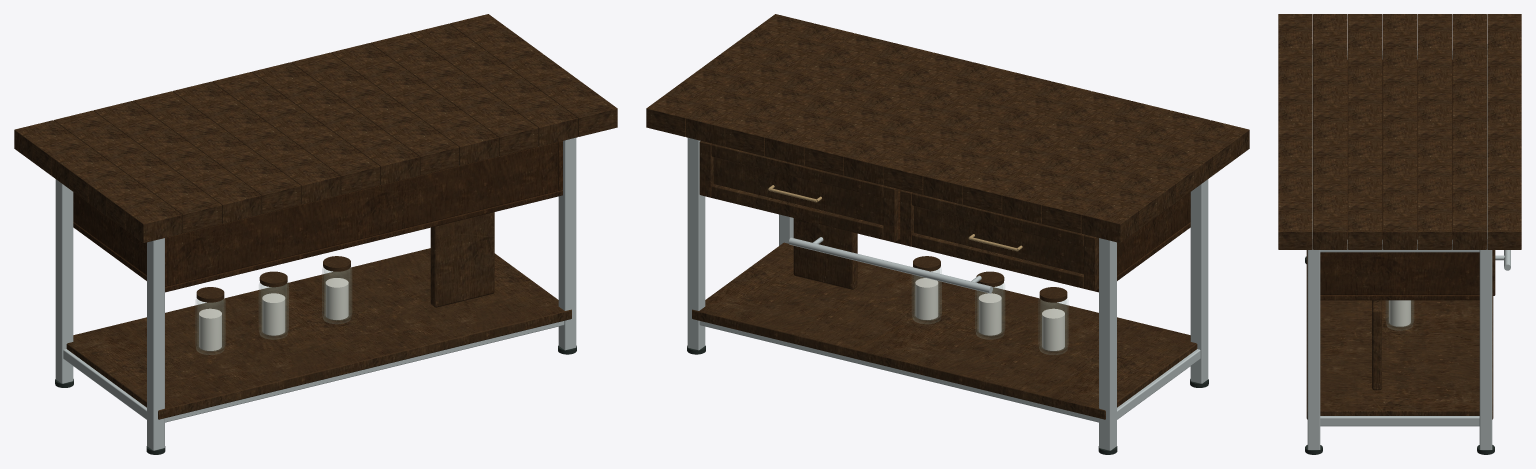
The model's file is cabinet-butcher-island.glb.
3 renders of one model, left to right at view 1: azimuth 30°, elevation 25°; view 2: azimuth 150°, elevation 25°; view 3: azimuth 270°, elevation 25°, orthographic. The views are drawn at different scales.
Visible parts, largest first — view 1: oak_surfaces, walnut_surfaces, steel_surfaces, glass_surfaces, cream_surfaces; view 2: oak_surfaces, steel_surfaces, glass_surfaces, walnut_surfaces, cream_surfaces; view 3: oak_surfaces, walnut_surfaces, steel_surfaces, glass_surfaces, cream_surfaces.
Part boxes in pixels (x1=…): oak_surfaces: x1=14, y1=14, x2=617, y2=419; walnut_surfaces: x1=73, y1=141, x2=562, y2=292; steel_surfaces: x1=55, y1=137, x2=576, y2=450; glass_surfaces: x1=196, y1=268, x2=351, y2=354; cream_surfaces: x1=199, y1=278, x2=348, y2=350; oak_surfaces: x1=646, y1=14, x2=1249, y2=419; steel_surfaces: x1=687, y1=137, x2=1208, y2=450; glass_surfaces: x1=912, y1=268, x2=1067, y2=354; walnut_surfaces: x1=711, y1=189, x2=1190, y2=292; cream_surfaces: x1=915, y1=278, x2=1064, y2=350; oak_surfaces: x1=1278, y1=14, x2=1521, y2=419; walnut_surfaces: x1=1320, y1=60, x2=1479, y2=300; steel_surfaces: x1=1307, y1=44, x2=1510, y2=449; glass_surfaces: x1=1386, y1=300, x2=1413, y2=329; cream_surfaces: x1=1389, y1=300, x2=1410, y2=326.
Size of the model in its own units: 1.8 by 0.9001 by 0.8492.
Materials: 7 (2 with a texture image).
